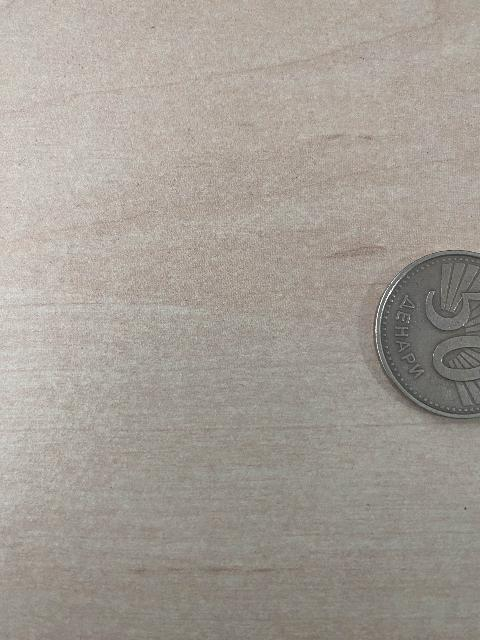50_coin: (374, 250, 479, 425)
